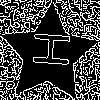H: (24, 29, 71, 68)
